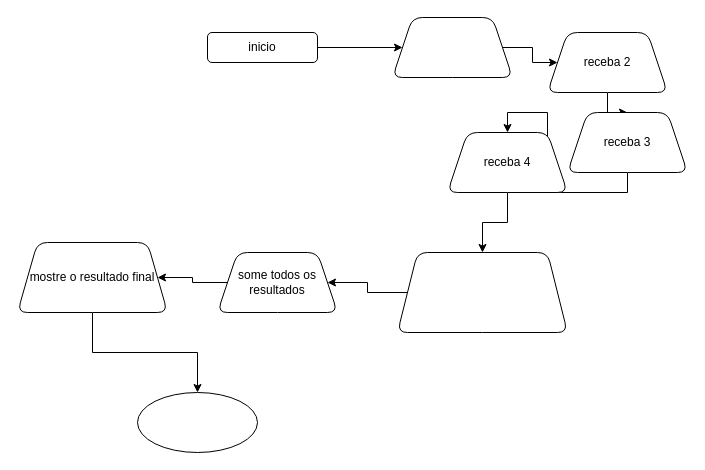
Some shapes in this 705 by 470 pixel diagram are drawn without their labels. Here are the shapes that lost their labels. From the top down, the centre of each, then its label:
At (x=452, y=47): "receba 1".
At (x=482, y=292): "calcule o quadrado de todos os numeros".
At (x=197, y=422): "fim".
